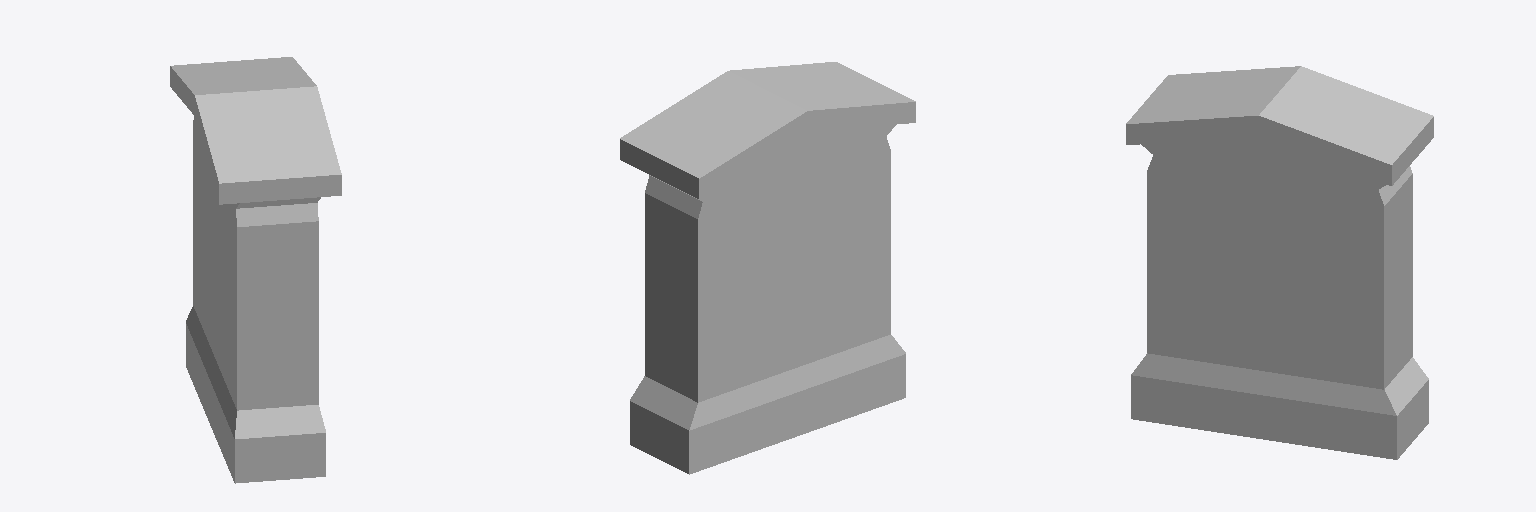
Rendered from Gravestone_Roof_7.obj.
3 views of the same model, side by side, from view 1: azimuth 30°, elevation 25°; view 2: azimuth 150°, elevation 25°; view 3: azimuth 270°, elevation 25° (orthographic).
Visible parts, largest first — view 1: Gravestone_Roof_7; view 2: Gravestone_Roof_7; view 3: Gravestone_Roof_7.
Part boxes in pixels (bbox=[...]): Gravestone_Roof_7: bbox=[170, 57, 341, 483]; Gravestone_Roof_7: bbox=[620, 62, 915, 474]; Gravestone_Roof_7: bbox=[1126, 66, 1433, 459].
Bounding box in the file's own units: 0.412 × 0.7028 × 0.5953.